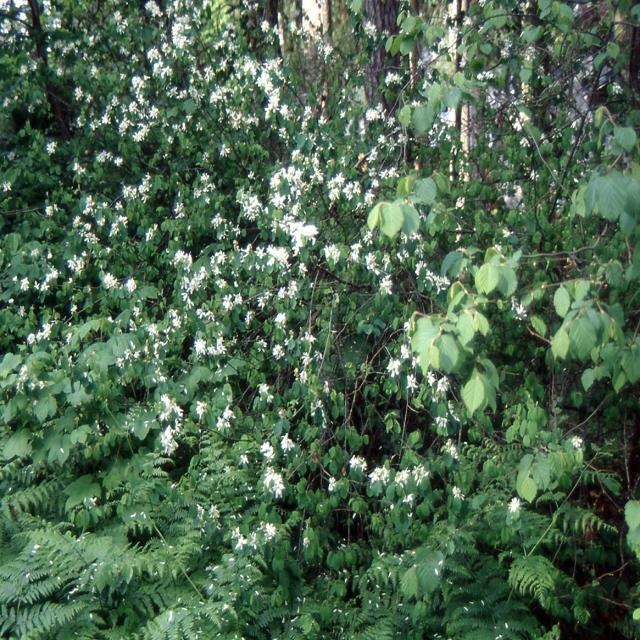Amelanchier alnifolia: (50, 0, 481, 571)
